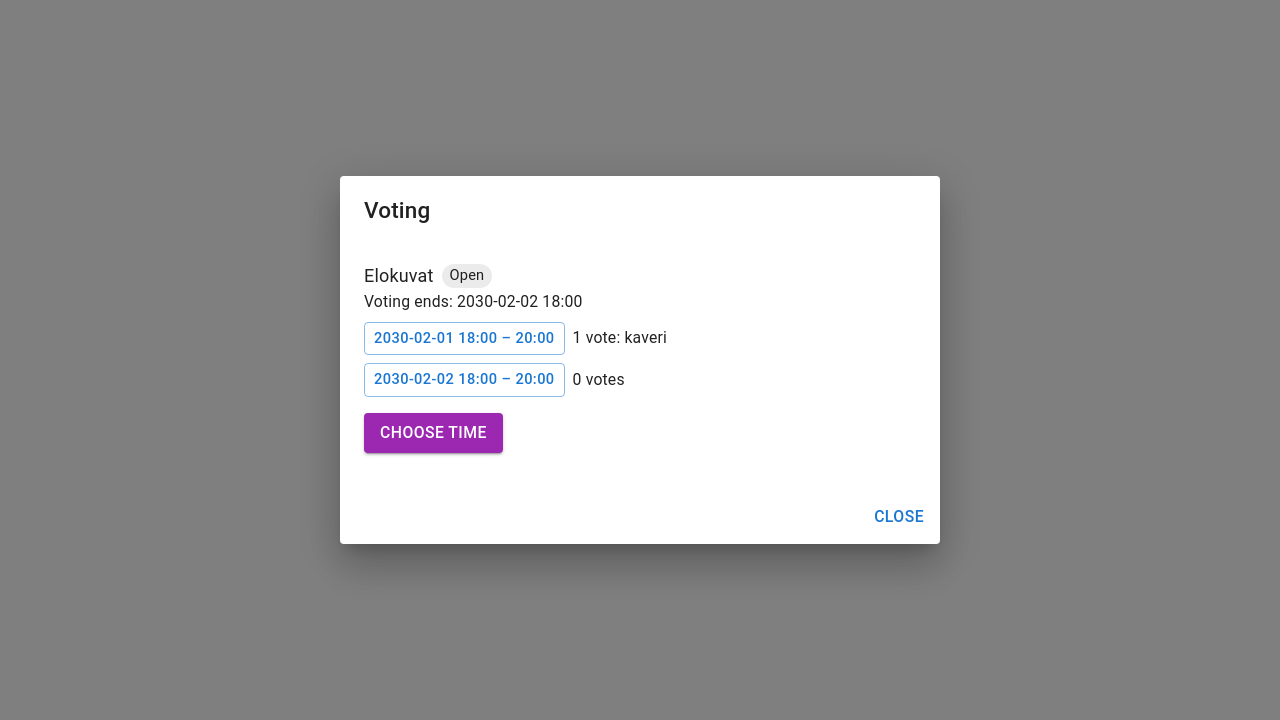
Test: VotingDialog › äänestää valittua vaihtoehtoa ja päivittää tuloksen
What coordinates should you click on to do the following:
click the button named "Vote 2030-02-02 18:00"
I would click on:
 (464, 380)
Its box is [364,363,565,397].
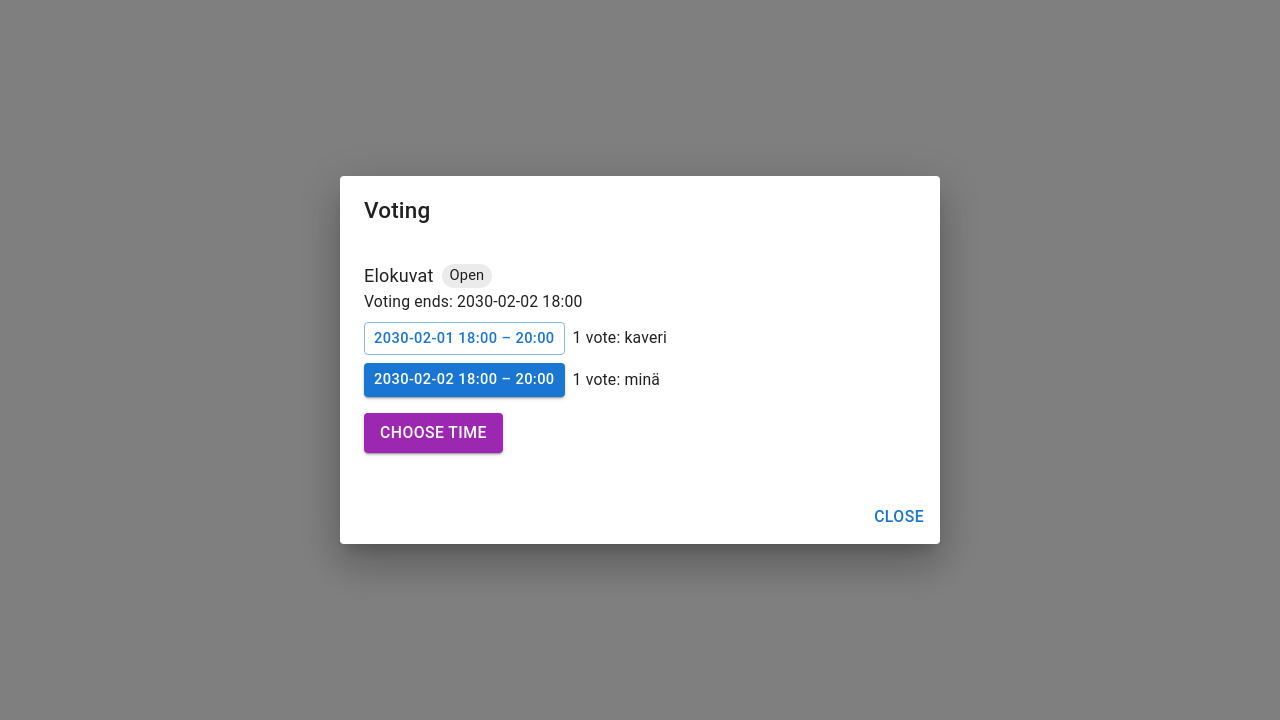
Now the text "1 vote: minä" is shown, box [573,369,660,392]
